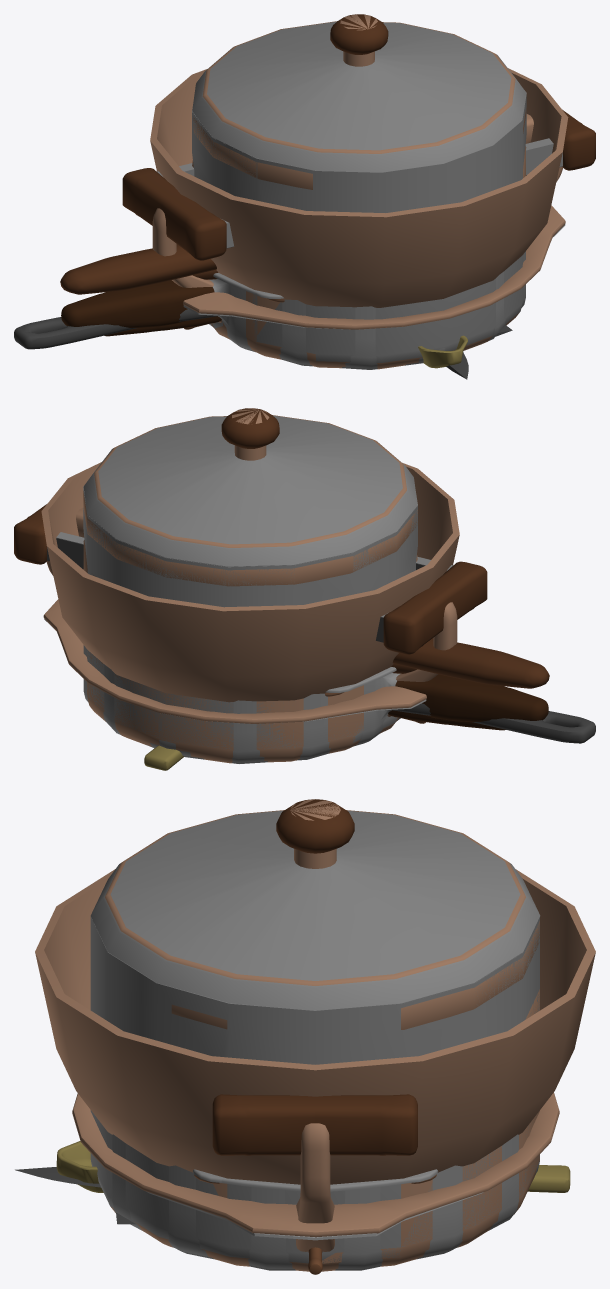
Rendered from Cookware.fbx.
The picture shows the model from 3 angles, top to bottom: view 1: azimuth 30°, elevation 25°; view 2: azimuth 150°, elevation 25°; view 3: azimuth 270°, elevation 25°; orthographic projection. The views are drawn at different scales.
Visible parts, largest first — view 1: Pot02B-Lid, MixingBowl03A, Pot02B, FryingPan01, PiePan02, Pot01A, Pot02A, Pot04A, Pot01A-Lid, CastIronSkillet01, Wooden Sppon, FryingPan02; view 2: Pot02B-Lid, MixingBowl03A, Pot02A, Pot01A, FryingPan01, PiePan02, Pot04A, Pot02B, Pot01A-Lid, CastIronSkillet01, Wooden Sppon, FryingPan02; view 3: Pot02B-Lid, MixingBowl03A, Pot02B, Pot01A, PiePan02, FryingPan01, Pot02A, Pot01A-Lid, Wooden Sppon, LoafPan01, PiePan01.
Part boxes in pixels (bbox=[...]): Pot02B-Lid: bbox=[192, 14, 525, 172]; MixingBowl03A: bbox=[150, 68, 568, 307]; Pot02B: bbox=[123, 90, 595, 362]; FryingPan01: bbox=[61, 251, 525, 369]; PiePan02: bbox=[183, 205, 565, 329]; Pot01A: bbox=[152, 108, 562, 369]; Pot02A: bbox=[122, 108, 592, 353]; Pot04A: bbox=[60, 244, 216, 294]; Pot01A-Lid: bbox=[202, 14, 515, 153]; CastIronSkillet01: bbox=[14, 309, 219, 349]; Wooden Sppon: bbox=[418, 335, 467, 368]; FryingPan02: bbox=[104, 316, 221, 336]; Pot02B-Lid: bbox=[83, 408, 417, 566]; MixingBowl03A: bbox=[41, 462, 459, 702]; Pot02A: bbox=[14, 488, 487, 749]; Pot01A: bbox=[46, 491, 457, 763]; FryingPan01: bbox=[83, 645, 548, 763]; PiePan02: bbox=[43, 599, 426, 723]; Pot04A: bbox=[392, 638, 549, 688]; Pot02B: bbox=[14, 486, 487, 625]; Pot01A-Lid: bbox=[94, 408, 406, 547]; CastIronSkillet01: bbox=[391, 703, 595, 743]; Wooden Sppon: bbox=[144, 745, 183, 770]; FryingPan02: bbox=[388, 710, 505, 730]; Pot02B-Lid: bbox=[90, 799, 540, 1010]; MixingBowl03A: bbox=[35, 869, 595, 1184]; Pot02B: bbox=[90, 916, 522, 1263]; Pot01A: bbox=[110, 921, 539, 1271]; PiePan02: bbox=[72, 1092, 559, 1237]; FryingPan01: bbox=[91, 1134, 539, 1270]; Pot02A: bbox=[215, 917, 539, 1263]; Pot01A-Lid: bbox=[105, 799, 525, 985]; Wooden Sppon: bbox=[56, 1141, 570, 1192]; LoafPan01: bbox=[192, 1169, 438, 1191]; PiePan01: bbox=[146, 1191, 483, 1240].
Size of the model in its own units: 0.567 by 0.2828 by 0.3953.
